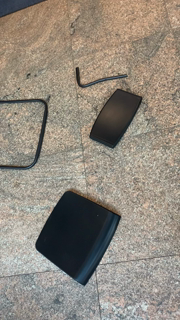Back: (89, 89, 146, 151)
L pipe: (75, 65, 130, 90)
Seat: (32, 188, 125, 289)
